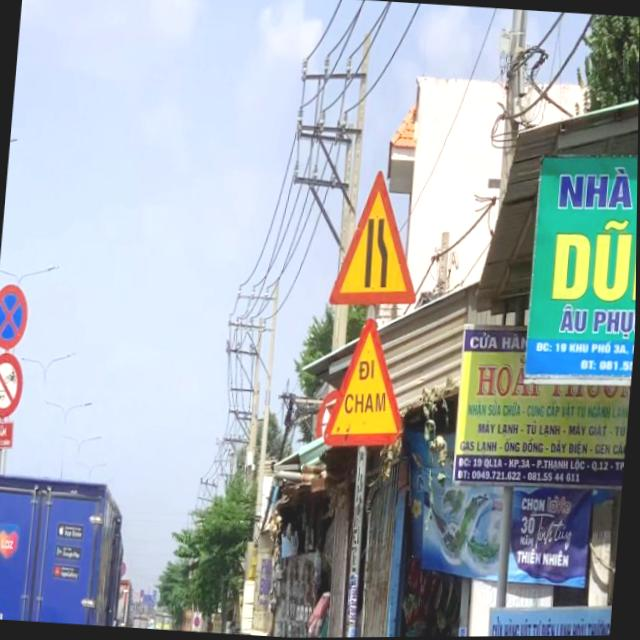Cam dung xe va do xe: (0, 282, 30, 351), (195, 616, 201, 627)
Di cham: (323, 314, 415, 454)
Giao nhau voi duong khong uu tien ben trai: (328, 164, 428, 312)
